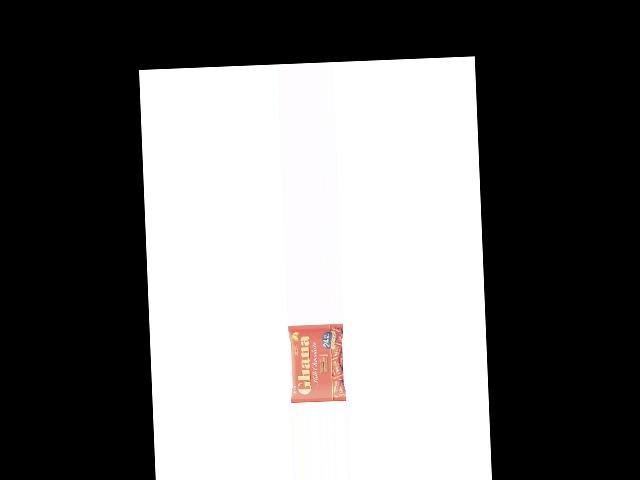chocolate: (289, 322, 347, 401)
